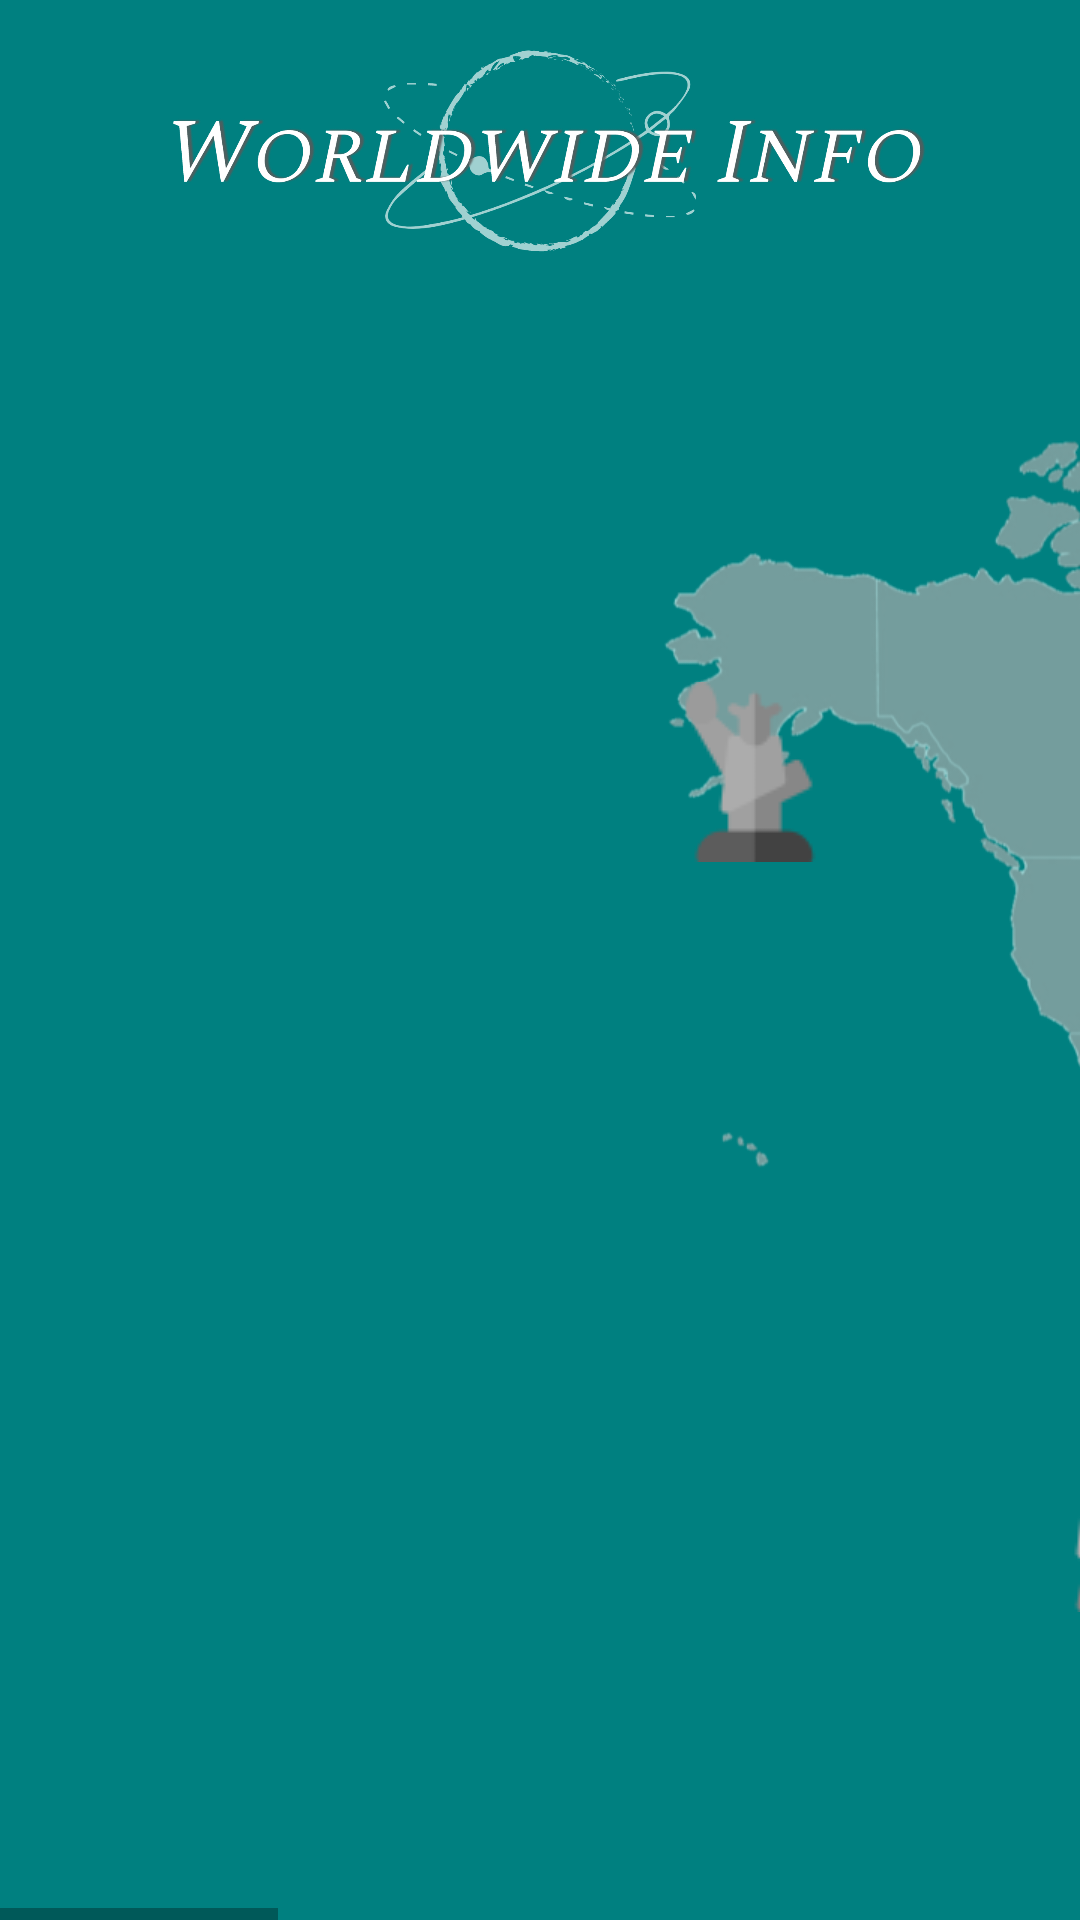

Icon click points for this 1080px×1920px phone screenshot, format point (x, y):
def usa: point (754, 772)
